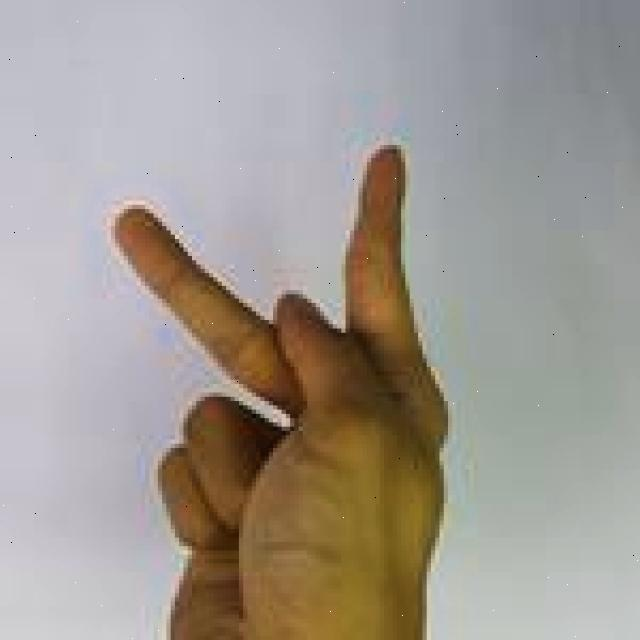K: (106, 138, 458, 640)
